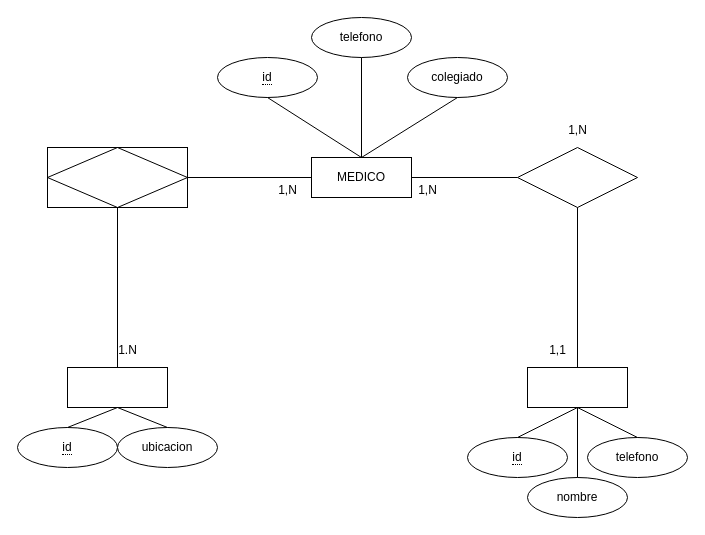
Image size: 705x535. Some labels were removed from this diagram. The shapes that lost their labels are listed below. From the top down, each one's centre as x and y in pixels, then its label:
[117,177]: horario
[577,177]: atiende
[117,387]: SALA
[577,387]: PACIENTE
